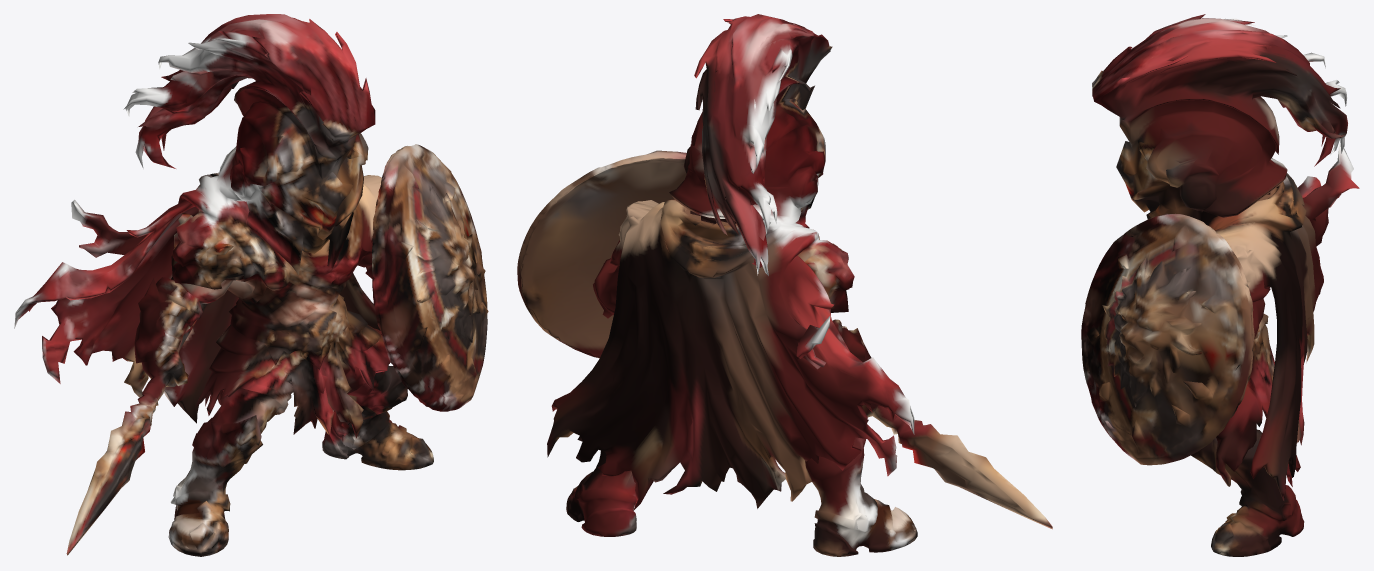
File: ares_painted.glb
3 views of the same model, side by side, from view 1: azimuth 30°, elevation 25°; view 2: azimuth 150°, elevation 25°; view 3: azimuth 270°, elevation 25° (orthographic). The views are drawn at different scales.
Visible parts, largest first — view 1: Body; view 2: Body; view 3: Body.
Part boxes in pixels (x1=…): Body: x1=14, y1=14, x2=488, y2=556; Body: x1=517, y1=14, x2=1052, y2=556; Body: x1=1081, y1=14, x2=1359, y2=556.
Size of the model in its own units: 1 by 0.9957 by 0.5486.
Materials: 1 (1 with a texture image).
